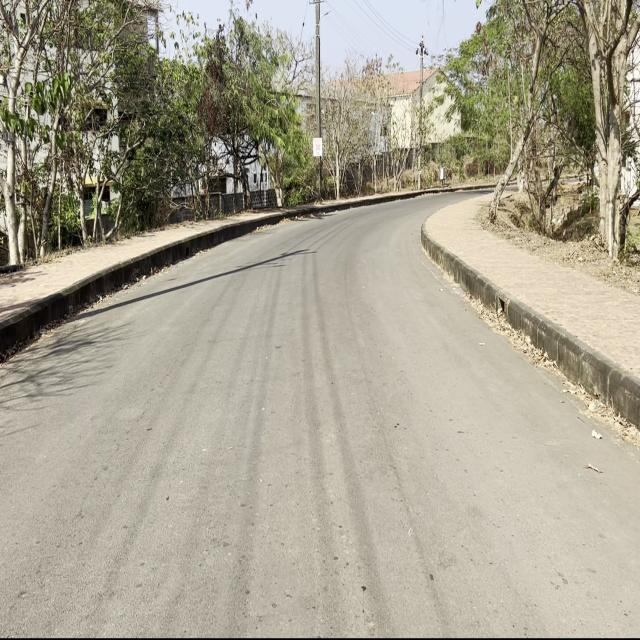Road: (3, 202, 638, 636)
